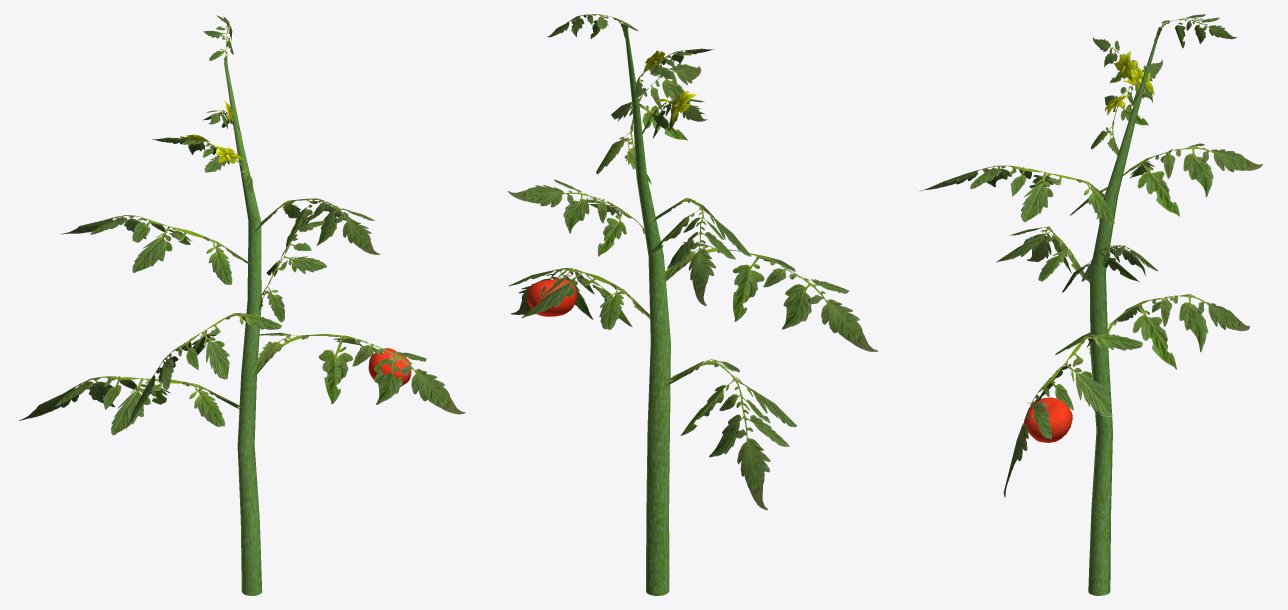
File: TomatoPlant.fbx
3 views of the same model, side by side, from view 1: azimuth 30°, elevation 25°; view 2: azimuth 150°, elevation 25°; view 3: azimuth 270°, elevation 25° (orthographic). The views are drawn at different scales.
Parts seen in each view (by area): view 1: tomato-plant, tomato-plant.002; view 2: tomato-plant, tomato-plant.002; view 3: tomato-plant, tomato-plant.002.
Part boxes in pixels (x1,y1,x2,y2): tomato-plant: (19, 15, 465, 595); tomato-plant.002: (368, 348, 411, 386); tomato-plant: (507, 14, 878, 595); tomato-plant.002: (527, 275, 576, 316); tomato-plant: (919, 14, 1262, 595); tomato-plant.002: (1024, 397, 1072, 442).
Size of the model in its own units: 20756 by 31210 by 17640.
1 material, 1 textured.
